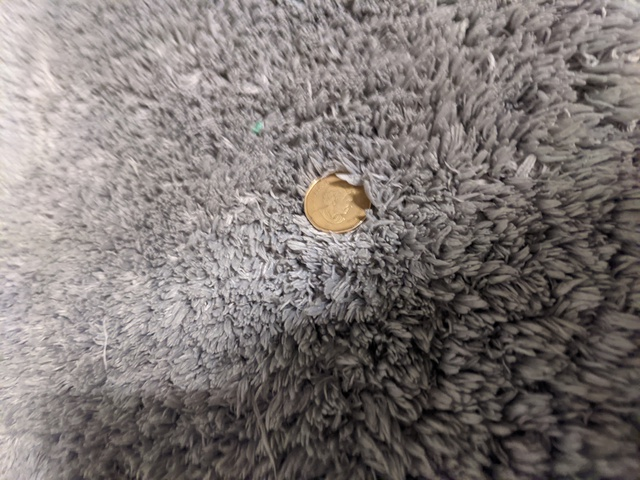loonie: (298, 162, 380, 229)
